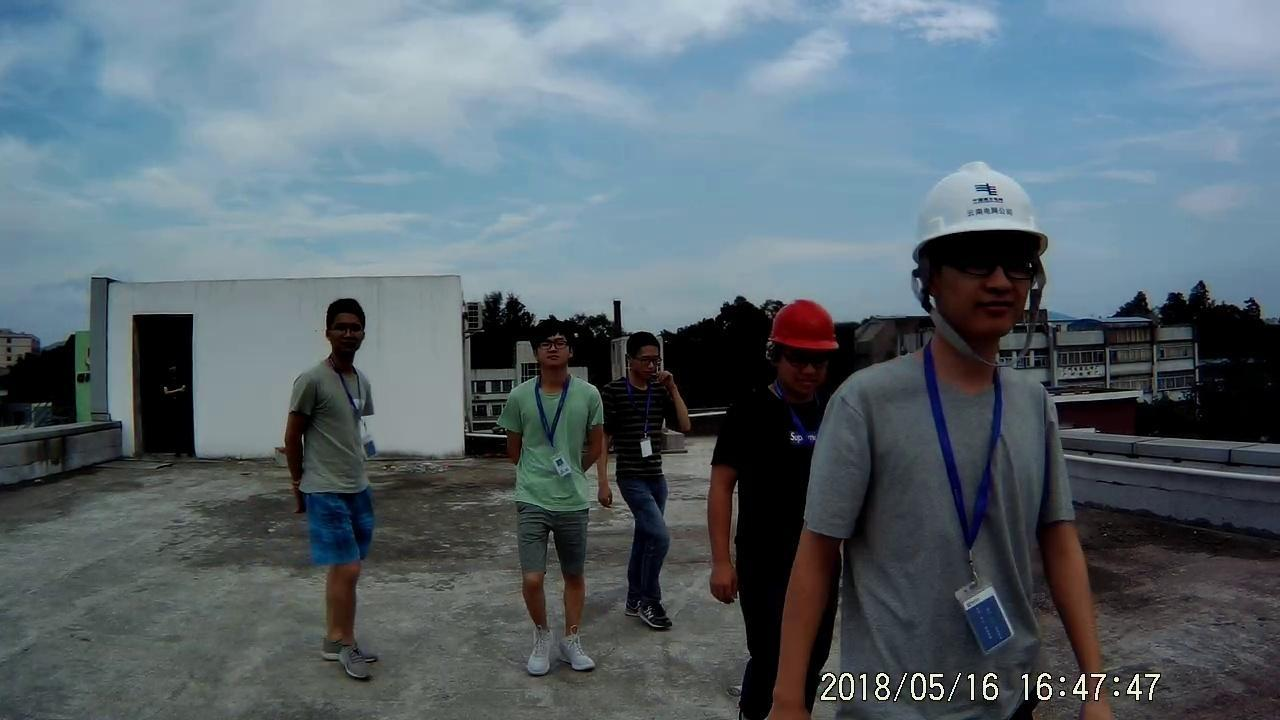helmet: (903, 165, 1055, 243), (765, 297, 838, 352)
no-helmet: (624, 327, 669, 365), (322, 295, 368, 330), (531, 319, 578, 349)
no-vest: (849, 341, 1062, 696), (732, 376, 834, 563), (514, 367, 597, 501), (303, 354, 378, 484), (615, 374, 675, 478)
person: (847, 151, 1077, 669), (711, 303, 843, 720), (295, 296, 387, 676), (507, 317, 600, 677), (617, 319, 698, 641)
